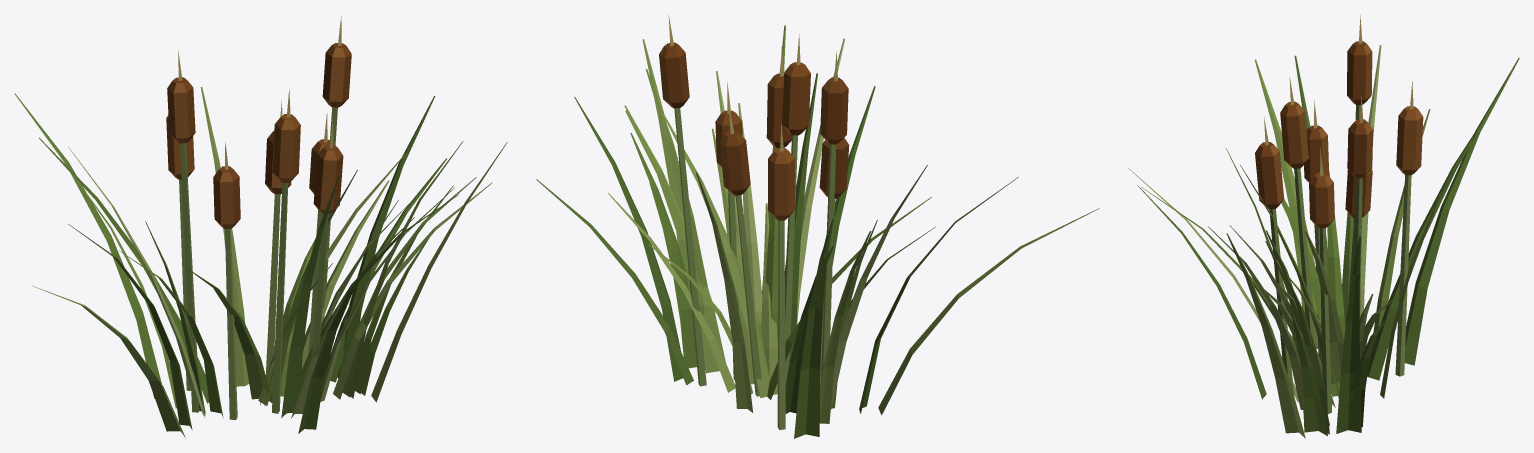
Rendered from river_cattails.glb.
The picture shows the model from 3 angles, left to right: view 1: azimuth 30°, elevation 25°; view 2: azimuth 150°, elevation 25°; view 3: azimuth 270°, elevation 25°; orthographic projection. The views are drawn at different scales.
Parts seen in each view (by area): view 1: river_cattails; view 2: river_cattails; view 3: river_cattails.
Part boxes in pixels (left/top/right/bottom): river_cattails: left=14, top=16, right=507, bottom=437; river_cattails: left=536, top=15, right=1099, bottom=438; river_cattails: left=1128, top=15, right=1519, bottom=438.
Bounding box in the file's own units: 2.64 × 1.9 × 1.95.
